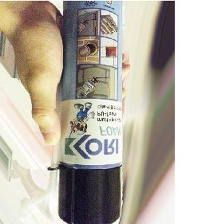aerosol_cans: (53, 0, 131, 224)
